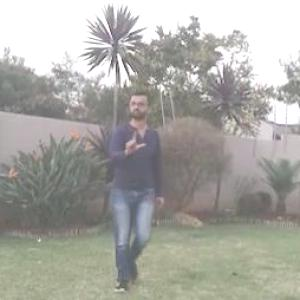land_hand: (116, 124, 146, 159)
